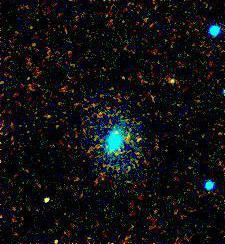star: (163, 70, 193, 100)
